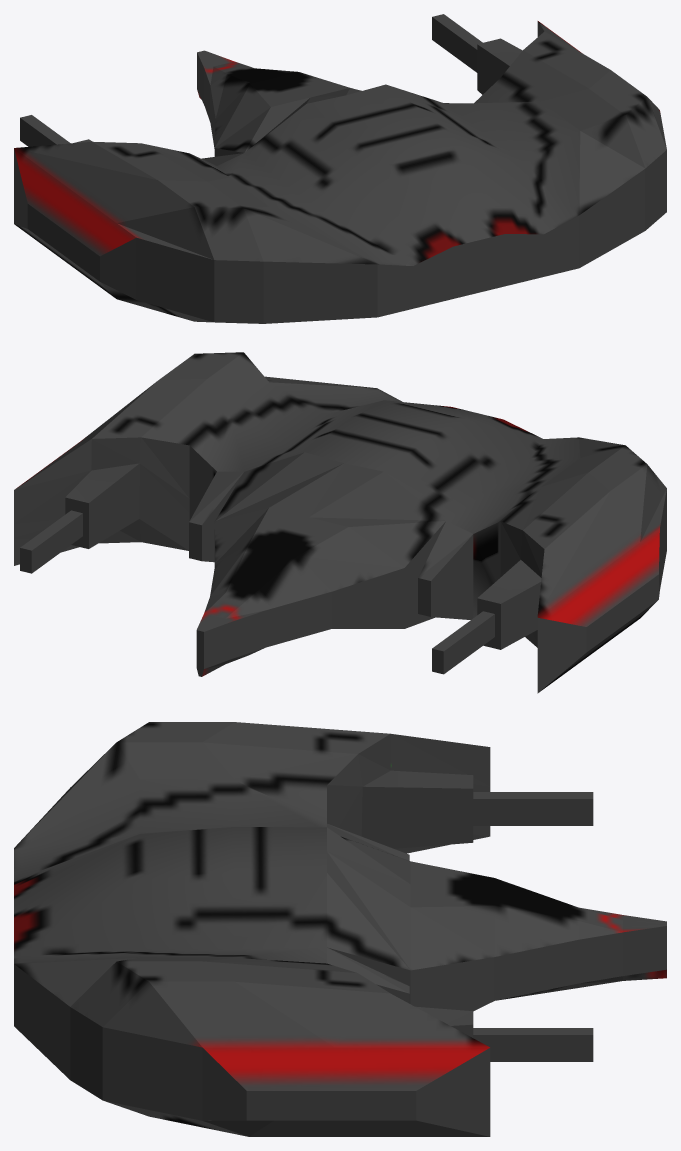
The model's file is Stormwall.FBX.
3 renders of one model, top to bottom at view 1: azimuth 30°, elevation 25°; view 2: azimuth 150°, elevation 25°; view 3: azimuth 270°, elevation 25°, orthographic. The views are drawn at different scales.
Parts seen in each view (by area): view 1: Stormwall; view 2: Stormwall; view 3: Stormwall.
Boxes of the visible parts, left/top/right/bottom form: Stormwall: left=14, top=14, right=666, bottom=323; Stormwall: left=14, top=352, right=666, bottom=693; Stormwall: left=14, top=722, right=666, bottom=1136.
Bounding box in the file's own units: 94.7 × 22.24 × 81.53.
Materials: 1 (1 with a texture image).
